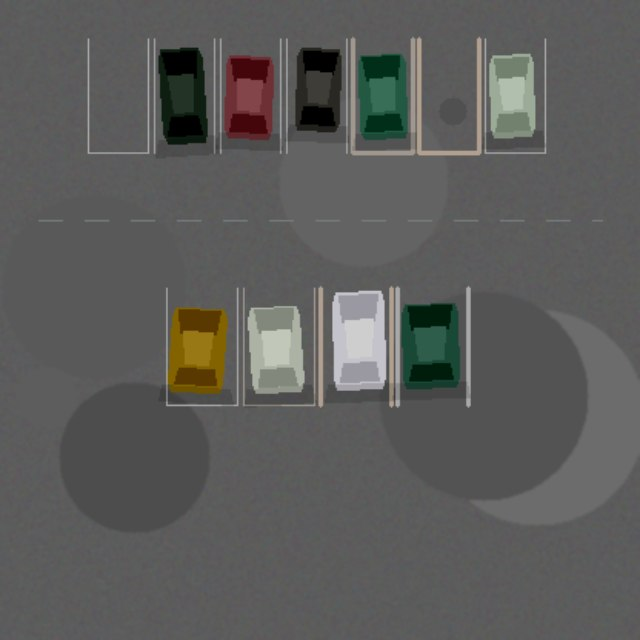space-empty: (88, 38, 148, 152), (418, 38, 478, 152)
space-occupied: (166, 288, 237, 405), (243, 288, 314, 405), (320, 288, 391, 405), (397, 288, 468, 405), (154, 38, 214, 152), (220, 38, 280, 152), (286, 38, 346, 152), (352, 38, 412, 152), (485, 38, 545, 152)
